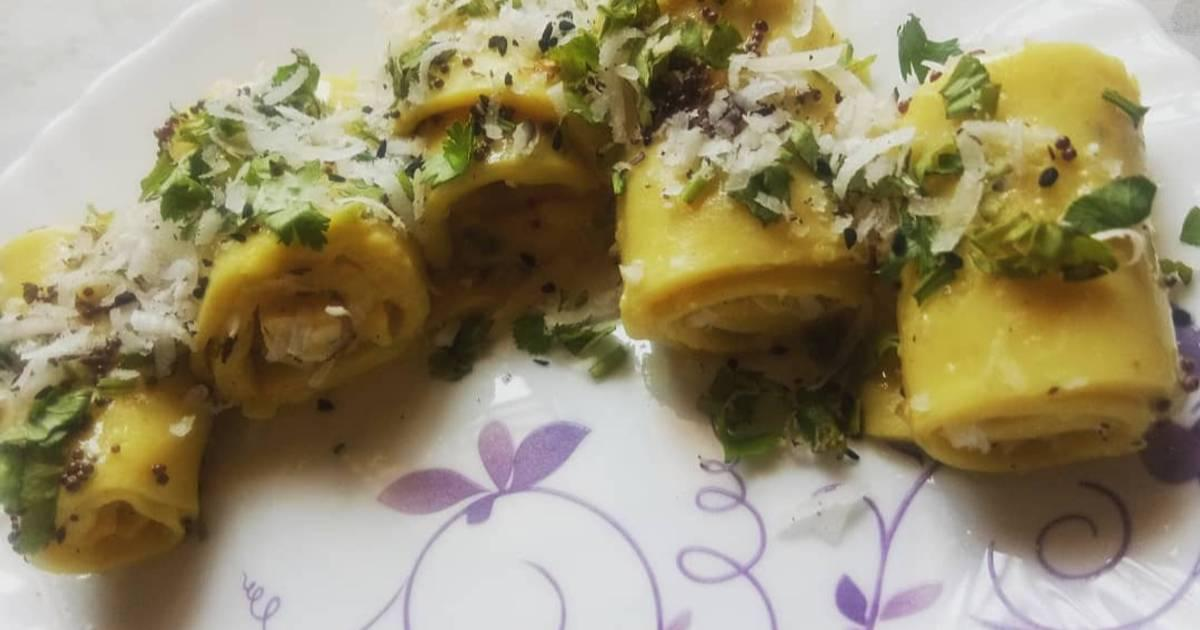khandvi: (10, 10, 1200, 508)
